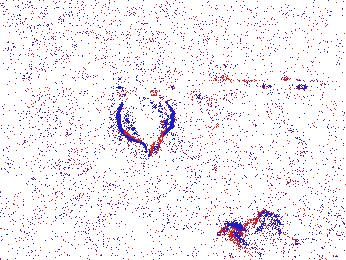flame jellyfish: (213, 209, 301, 260), (116, 91, 178, 158), (33, 217, 92, 260)
